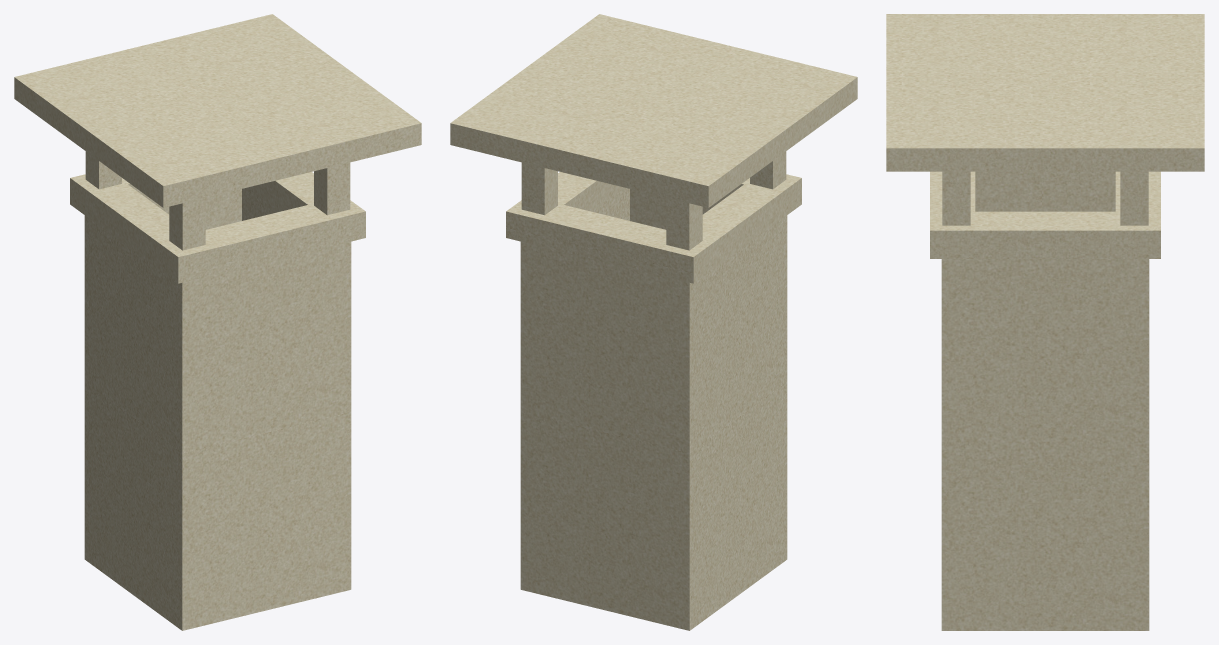
The model's file is sweethome3d-scopia-chimney-339.glb.
3 views of the same model, side by side, from view 1: azimuth 30°, elevation 25°; view 2: azimuth 150°, elevation 25°; view 3: azimuth 270°, elevation 25° (orthographic). The views are drawn at different scales.
Visible parts, largest first — view 1: BaseChimney_Cube.002, topChimney_Cube.001; view 2: BaseChimney_Cube.002, topChimney_Cube.001; view 3: BaseChimney_Cube.002, topChimney_Cube.001.
Boxes of the visible parts, x1,y1,x2,y2 form: BaseChimney_Cube.002: (84,187,351,630); topChimney_Cube.001: (14,14,421,283); BaseChimney_Cube.002: (520,187,787,630); topChimney_Cube.001: (450,14,857,283); BaseChimney_Cube.002: (941,180,1149,630); topChimney_Cube.001: (886,14,1204,258).
Bounding box in the file's own units: 67.32 × 118 × 67.32.
2 materials, 2 textured.
